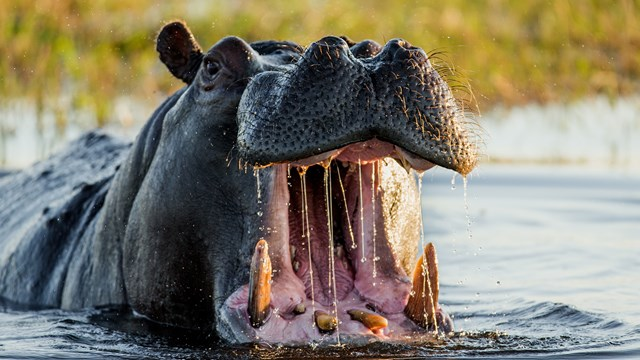Hippopotamus: (1, 21, 477, 348)
